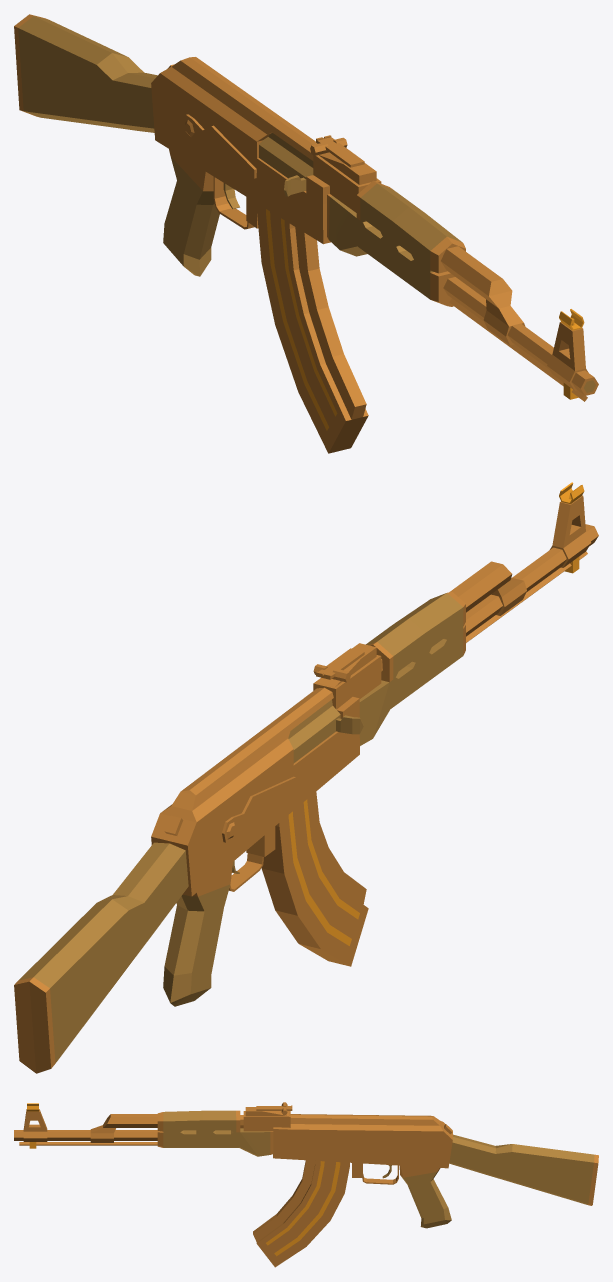
The model's file is SM_Prop_Rifle_01.fbx.
3 views of the same model, one above another, from view 1: azimuth 30°, elevation 25°; view 2: azimuth 150°, elevation 25°; view 3: azimuth 270°, elevation 25° (orthographic). The views are drawn at different scales.
Parts seen in each view (by area): view 1: SM_Prop_Rifle_01, SM_Prop_Rifle_Mag_01, SM_Prop_Rifle_Slide_01; view 2: SM_Prop_Rifle_01, SM_Prop_Rifle_Mag_01, SM_Prop_Rifle_Slide_01; view 3: SM_Prop_Rifle_01, SM_Prop_Rifle_Mag_01.
Boxes of the visible parts, bbox=[...] form: SM_Prop_Rifle_01: bbox=[14, 14, 598, 401]; SM_Prop_Rifle_Mag_01: bbox=[256, 203, 368, 453]; SM_Prop_Rifle_Slide_01: bbox=[259, 133, 313, 196]; SM_Prop_Rifle_01: bbox=[14, 482, 598, 1073]; SM_Prop_Rifle_Mag_01: bbox=[261, 792, 368, 966]; SM_Prop_Rifle_Slide_01: bbox=[288, 699, 363, 763]; SM_Prop_Rifle_01: bbox=[14, 1102, 598, 1228]; SM_Prop_Rifle_Mag_01: bbox=[253, 1160, 349, 1267].
Size of the model in its own units: 6.24 by 31.38 by 104.
